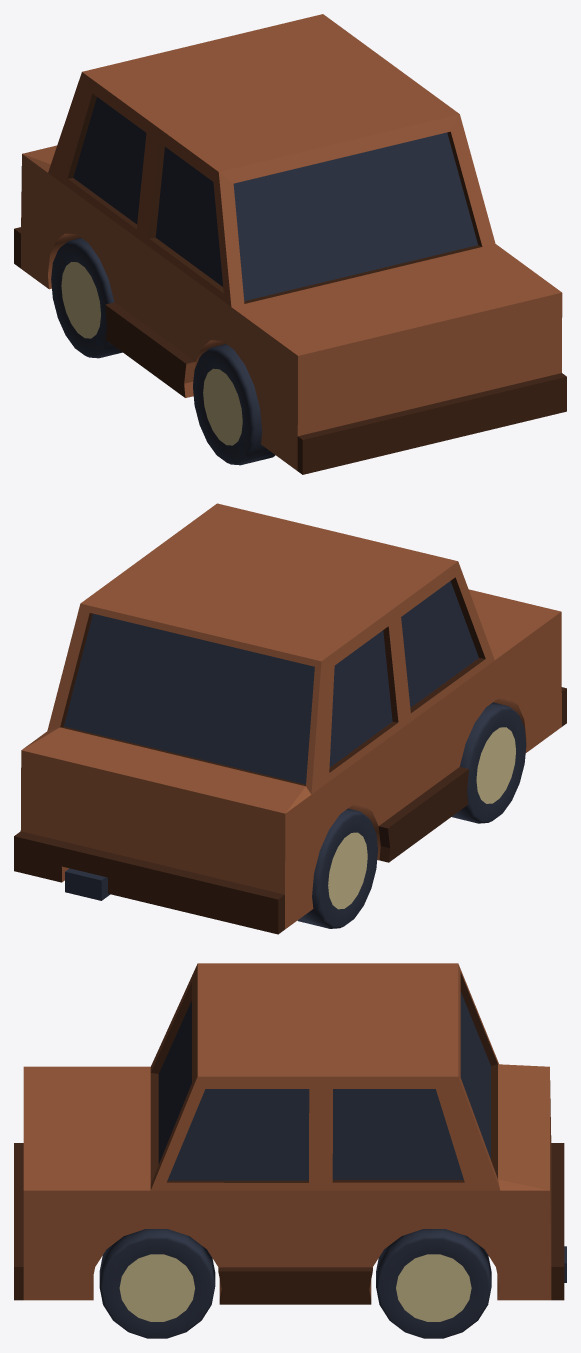
File: car_3.FBX
The picture shows the model from 3 angles, top to bottom: view 1: azimuth 30°, elevation 25°; view 2: azimuth 150°, elevation 25°; view 3: azimuth 270°, elevation 25°; orthographic projection. The views are drawn at different scales.
Visible parts, largest first — view 1: chassis.001, chassis, wheel_1, wheel_4; view 2: chassis.001, chassis, wheel_4, wheel_1; view 3: chassis.001, chassis, wheel_2, wheel_3.
Boxes of the visible parts, x1=… form: chassis.001: x1=20, y1=14, x2=562, y2=470; chassis: x1=14, y1=93, x2=566, y2=474; wheel_1: x1=193, y1=344, x2=275, y2=465; wheel_4: x1=51, y1=238, x2=122, y2=358; chassis.001: x1=20, y1=503, x2=561, y2=929; chassis: x1=14, y1=577, x2=566, y2=934; wheel_4: x1=297, y1=808, x2=377, y2=928; wheel_1: x1=452, y1=702, x2=526, y2=823; chassis.001: x1=23, y1=963, x2=551, y2=1300; chassis: x1=14, y1=972, x2=566, y2=1304; wheel_2: x1=99, y1=1229, x2=215, y2=1338; wheel_3: x1=376, y1=1229, x2=491, y2=1338.
Size of the model in its own units: 667 by 608 by 1186.
